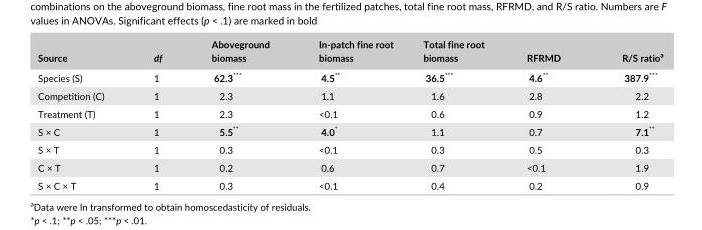table: (37, 37, 662, 190)
table column: (293, 37, 407, 190), (186, 37, 293, 190), (407, 37, 504, 190), (37, 37, 128, 190), (504, 37, 590, 190), (590, 37, 662, 190), (128, 37, 186, 190)
table column header: (37, 37, 662, 66)
table row: (37, 37, 662, 66), (37, 66, 662, 86), (37, 121, 662, 140), (37, 86, 662, 104), (37, 140, 662, 158), (37, 158, 662, 176), (37, 104, 662, 121), (37, 176, 662, 190)
